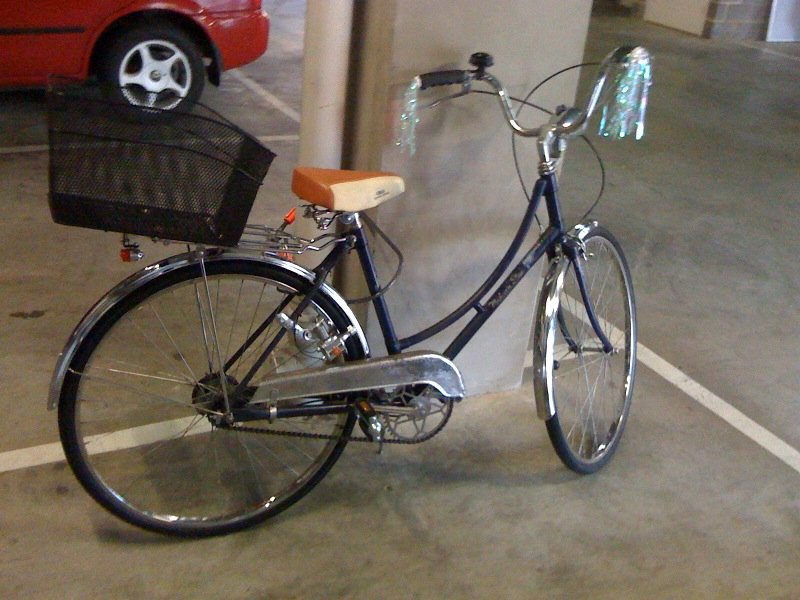bicycle: (27, 66, 694, 544)
